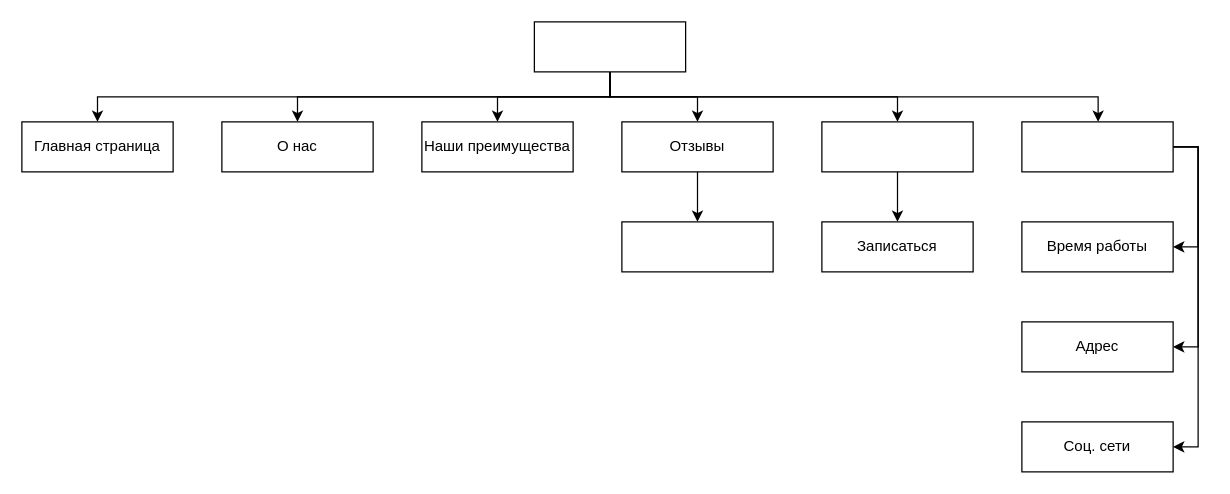
Some shapes in this 1230 by 494 pixel diagram are drawn without their labels. The box of each missing label's shape, as (x1, y1, x2, y2) in pixels:
Запись: (821, 121, 973, 172)
Контакты: (1021, 121, 1173, 172)
Оставить комментарий: (621, 221, 773, 272)
Сайт: (533, 21, 686, 72)
